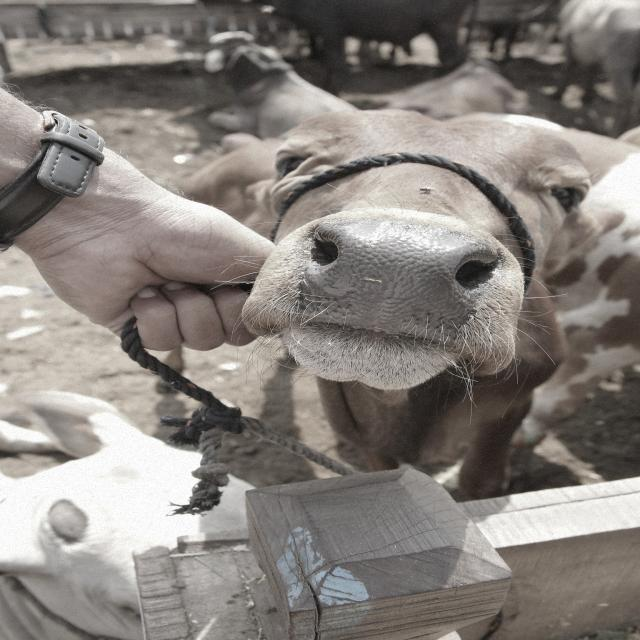muzzles: (276, 212, 516, 355)
